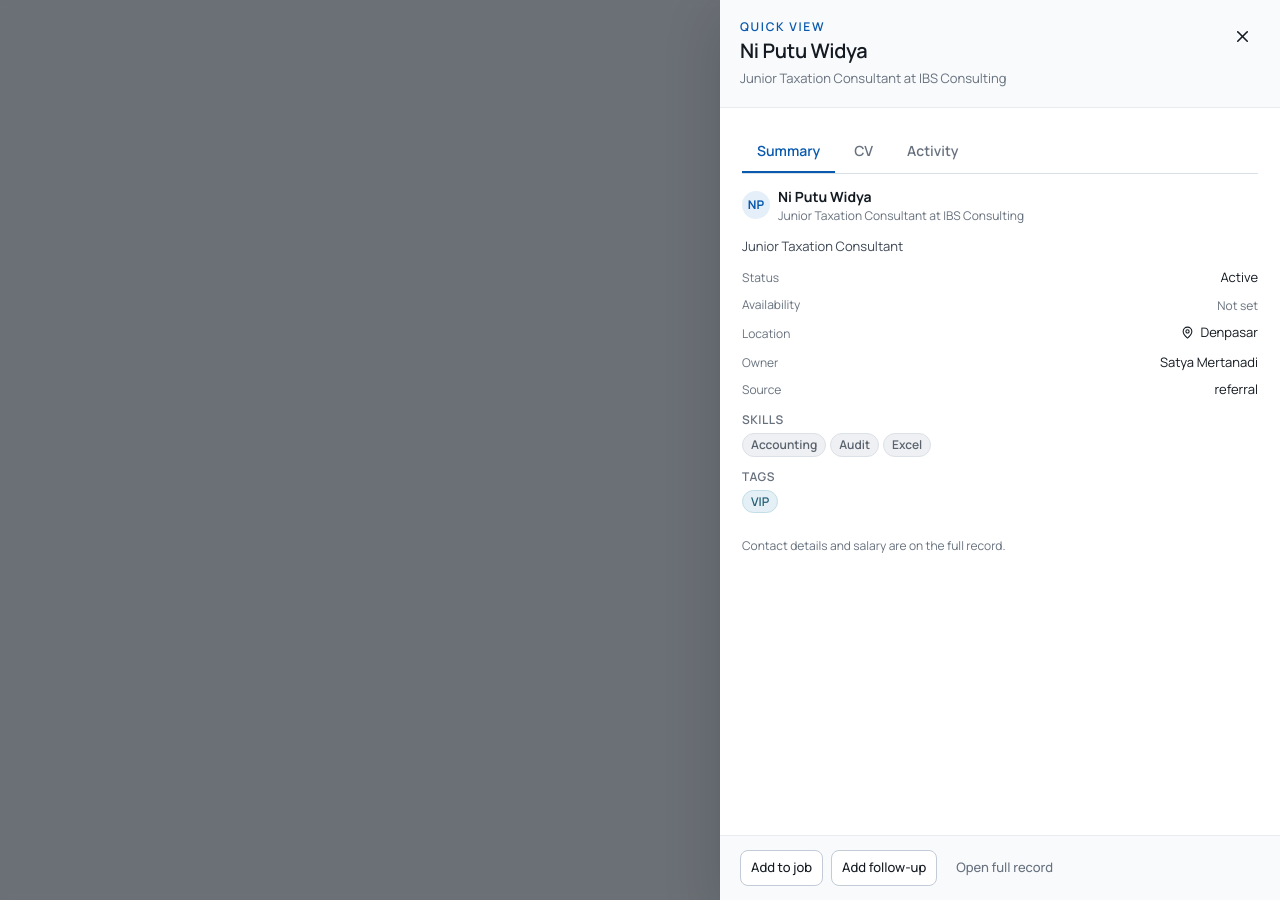
CandidateQuickViewDrawer › names the enrichment queue when there is no CV at all
Click the tab "CV" at (864,151), box [839,130,888,172]
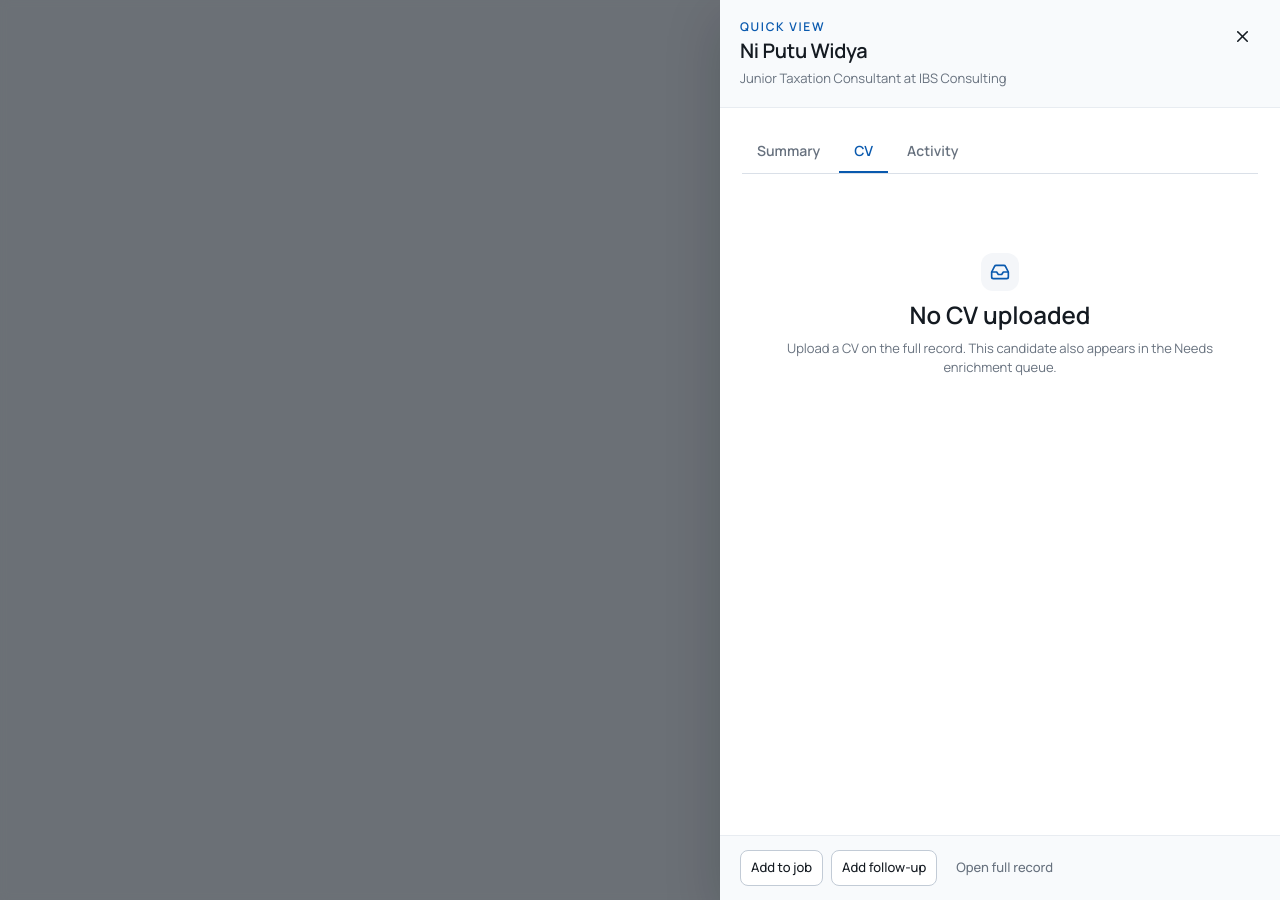
Now the heading "No CV uploaded" is shown, box [910,299,1090,331]
